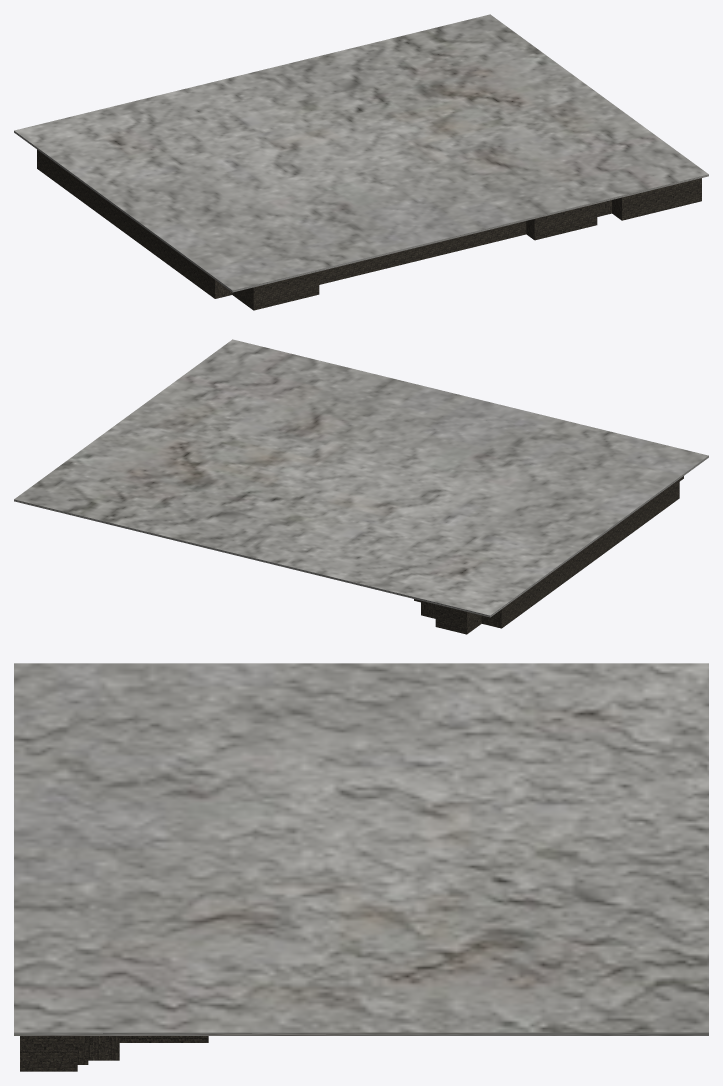
Rendered from map.fbx.
3 renders of one model, top to bottom at view 1: azimuth 30°, elevation 25°; view 2: azimuth 150°, elevation 25°; view 3: azimuth 270°, elevation 25°, orthographic. The views are drawn at different scales.
Parts seen in each view (by area): view 1: Ceiling, Walls; view 2: Ceiling, Walls; view 3: Ceiling, Walls.
Boxes of the visible parts, <box> form: Ceiling: <box>14,14,708,292</box>; Walls: <box>37,149,701,310</box>; Ceiling: <box>14,339,708,617</box>; Walls: <box>414,476,683,634</box>; Ceiling: <box>14,663,708,1035</box>; Walls: <box>20,1036,208,1071</box>.
Size of the model in its own units: 10113 by 549 by 8039.
